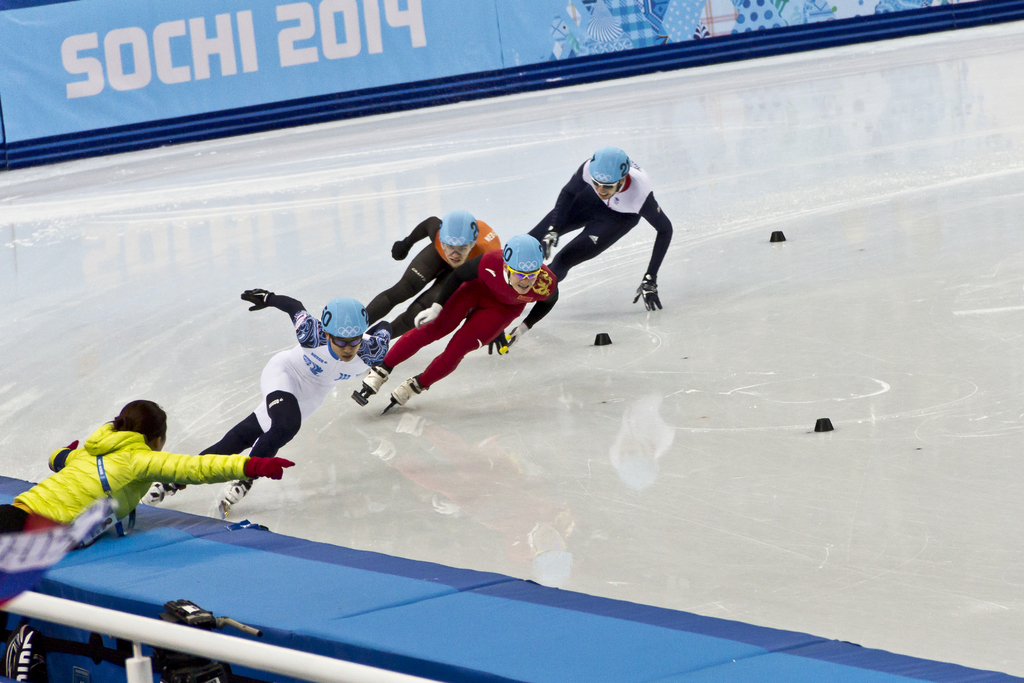Person: (0, 399, 292, 608), (137, 287, 389, 518), (350, 235, 558, 416), (524, 146, 673, 309), (364, 209, 500, 339)
